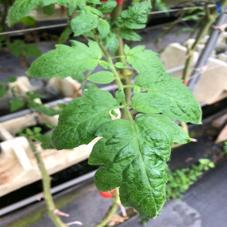Healthy: (89, 112, 175, 221), (50, 85, 119, 151), (25, 39, 104, 82)
